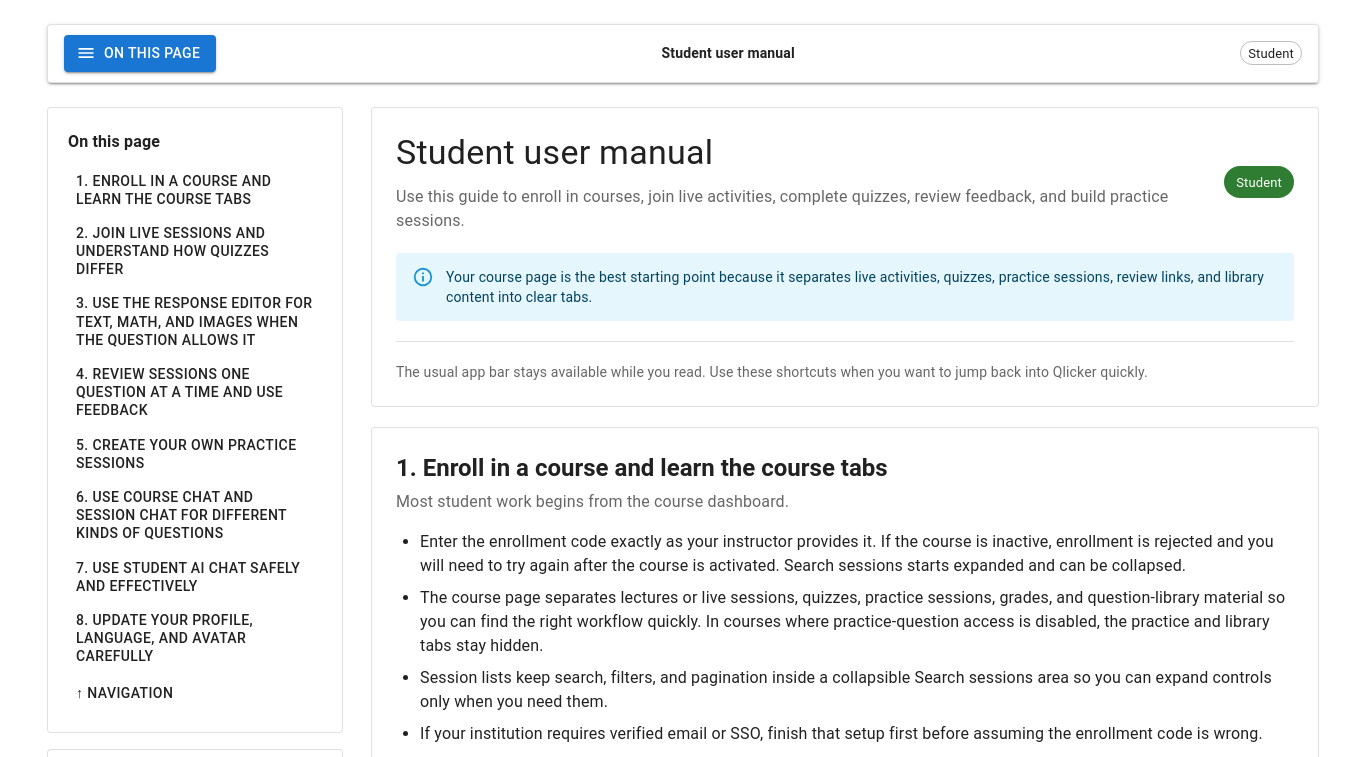
Scenario: UserManual › renders the student manual content and screenshots for student users
Expected: the heading "Student user manual" is shown, [396,132,713,172]
Expected: the heading "1. Enroll in a course and learn the course tabs" is shown, [396,454,888,482]
Step 1. Click the button "On this page" → (140, 53), box [64,35,216,72]
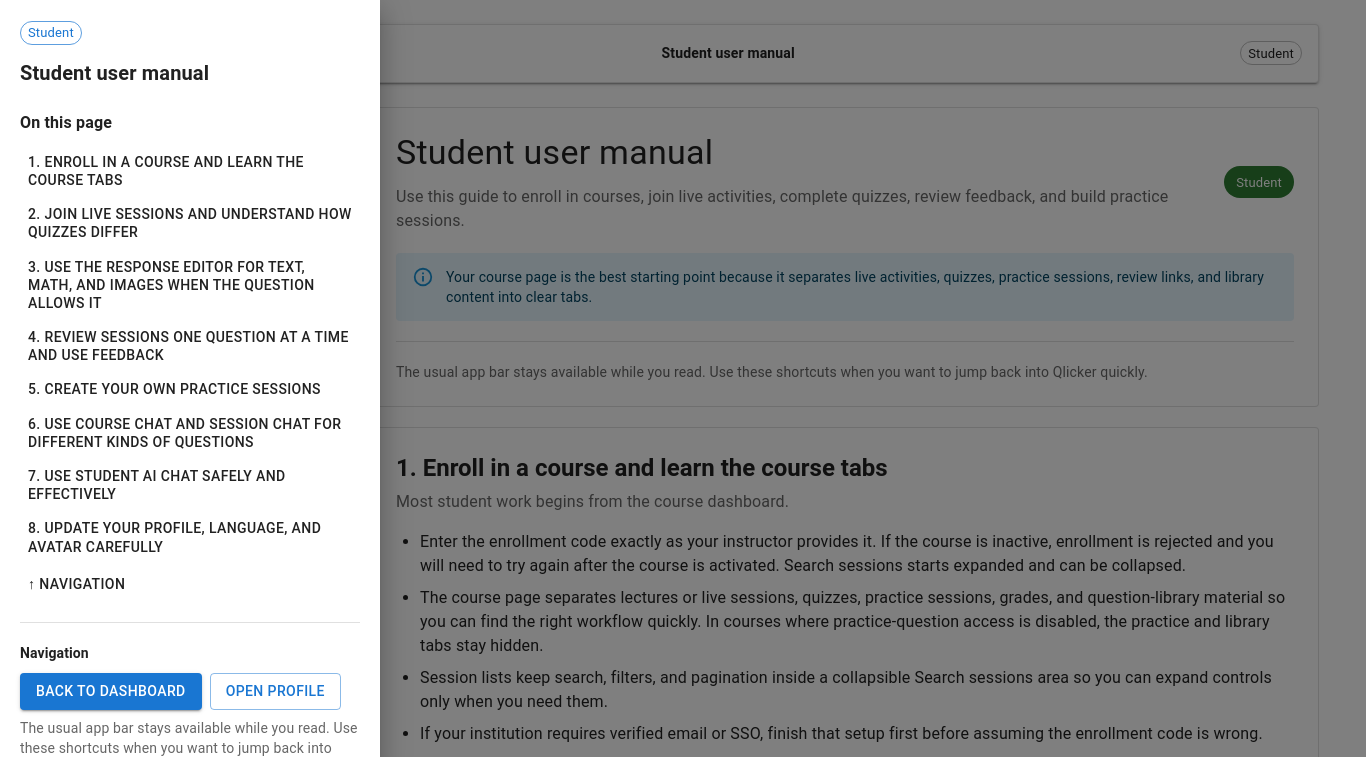
Expected: the navigation bar "On this page" is shown, [20,109,360,602]
Expected: the link "1. Enroll in a course and learn the course tabs" is shown, [28,154,304,188]
